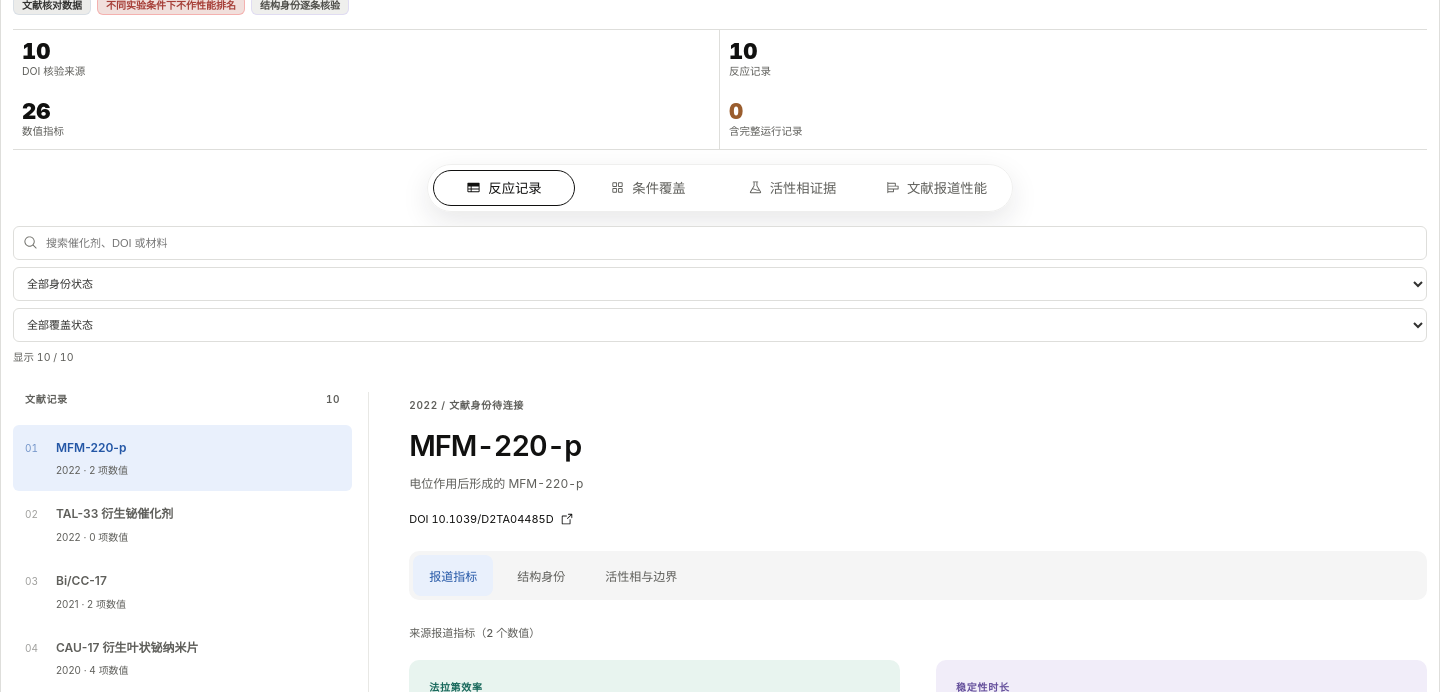
Test: CatalysisReactionRecordWorkbench › filters the shared record set by DOI or catalyst identity
Step 1. Type "TAL-33" into the search field labelled "搜索催化剂、DOI 或材料" → (720, 243), box [13, 226, 1427, 260]
(page scrolled)
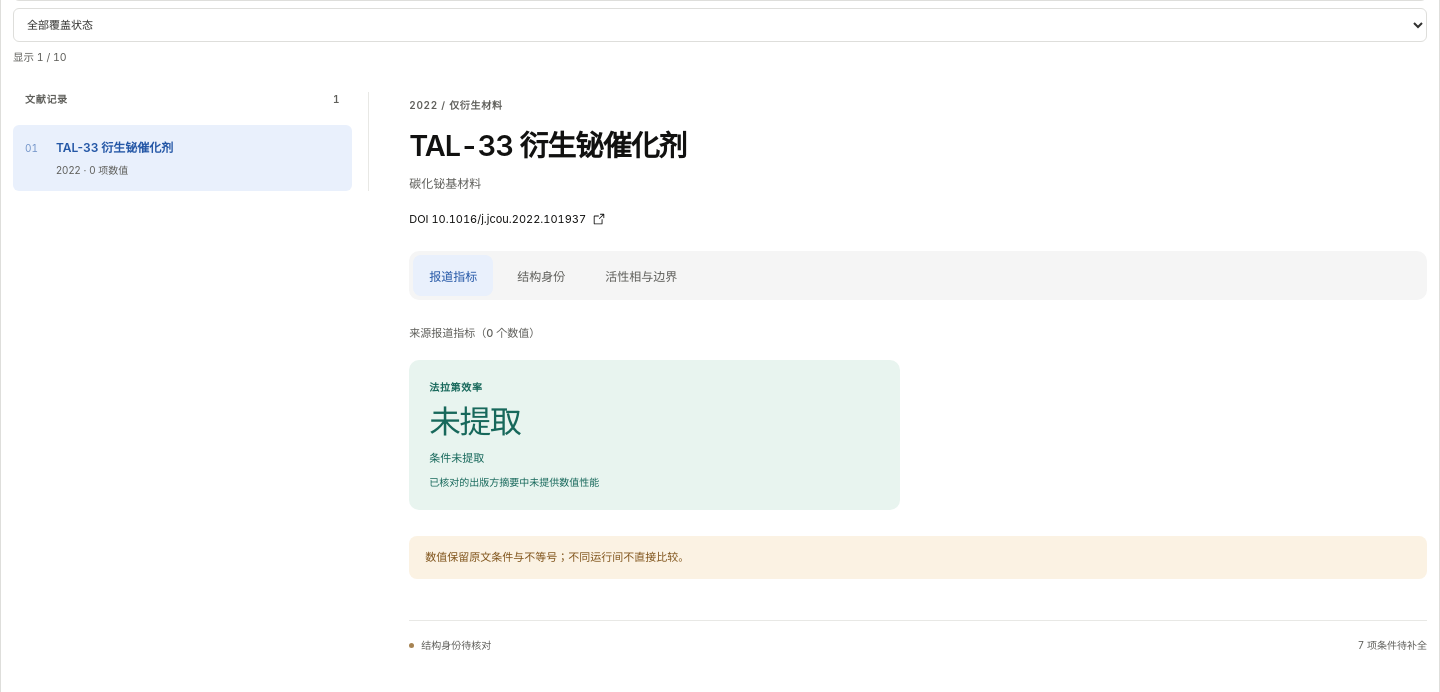
expect the element with test id "catalysis-record-detail" shows "未提取": met, box [429, 402, 520, 441]
expect the text "显示 1 / 10" is shown: met, box [13, 51, 67, 64]
expect the element with test id "catalysis-record-detail" shows "TAL-33 衍生铋催化剂": met, box [409, 128, 686, 163]
